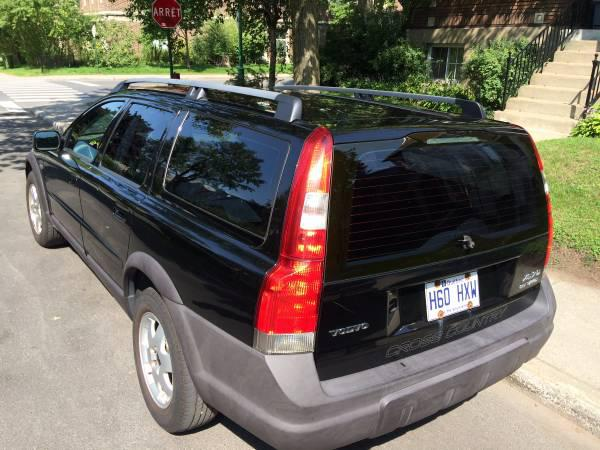volvo: (14, 60, 572, 450)
